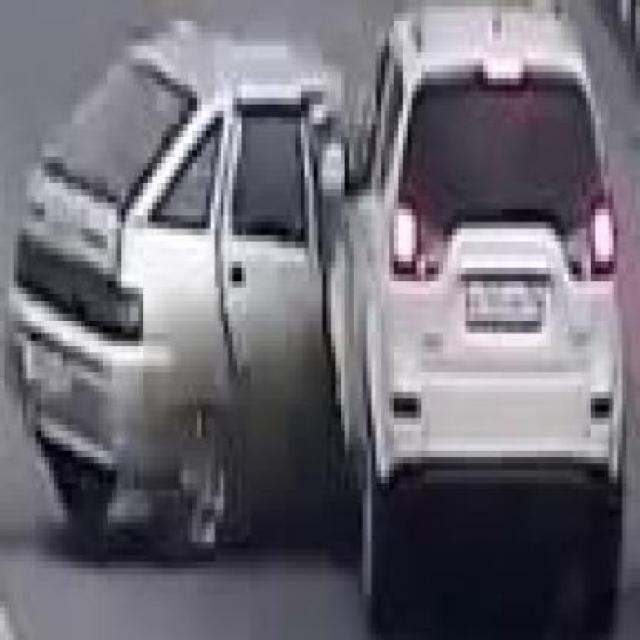accident: (19, 1, 622, 552)
